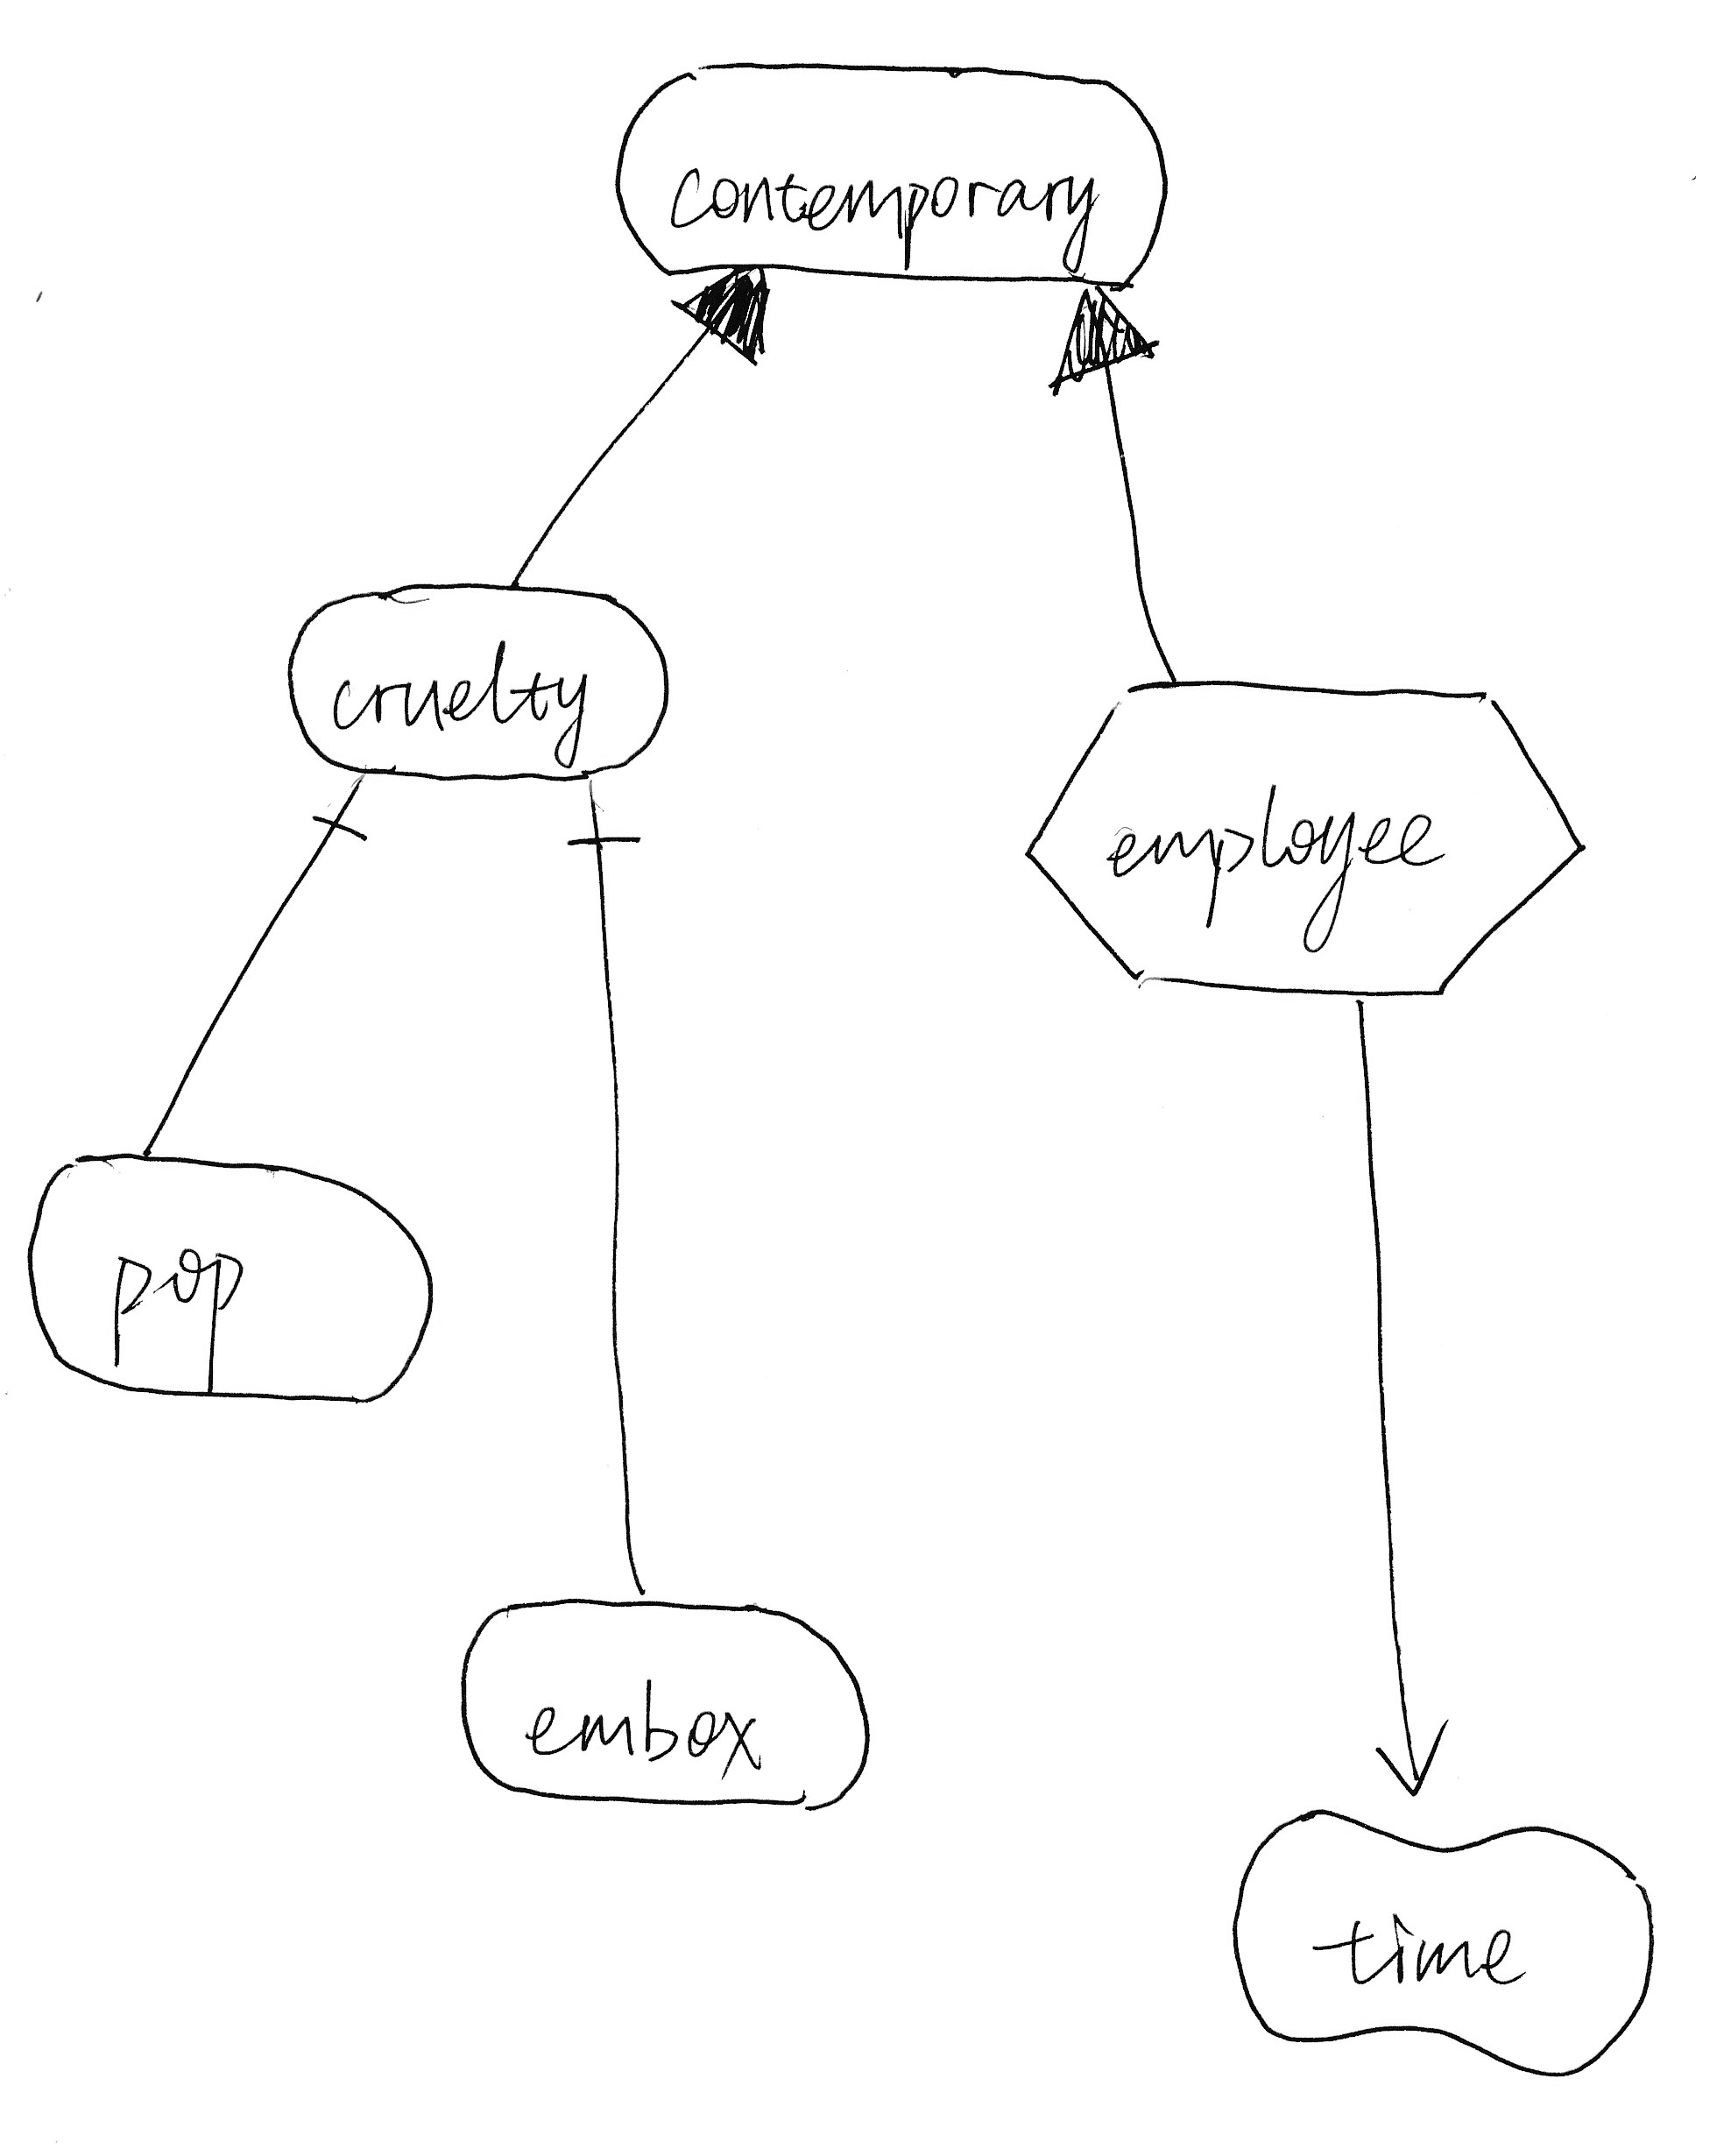and: (288, 777, 394, 872), (548, 795, 654, 885)
arrow: (1360, 1700, 1466, 1815)
goal: (581, 32, 1198, 298), (16, 1128, 447, 1421), (443, 1564, 903, 1831), (272, 567, 687, 803)
or: (1035, 275, 1187, 408), (657, 258, 797, 383)
quality: (1208, 1792, 1685, 2101)
task: (1005, 659, 1602, 1029)
